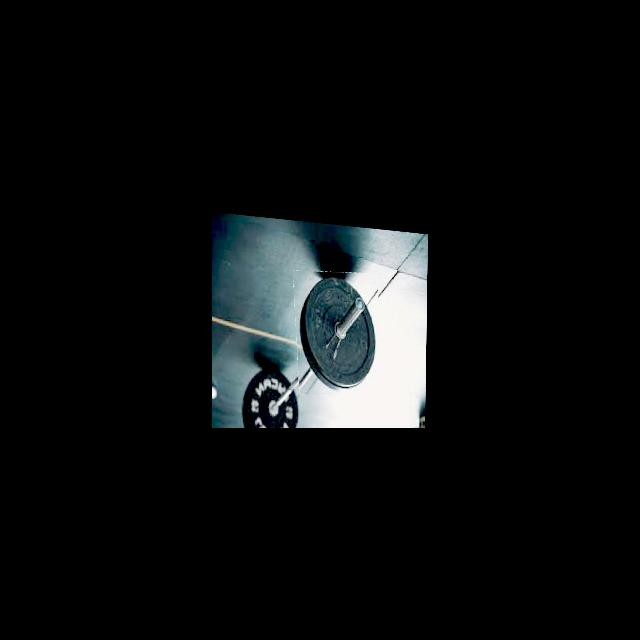barbell: (294, 264, 384, 398)
